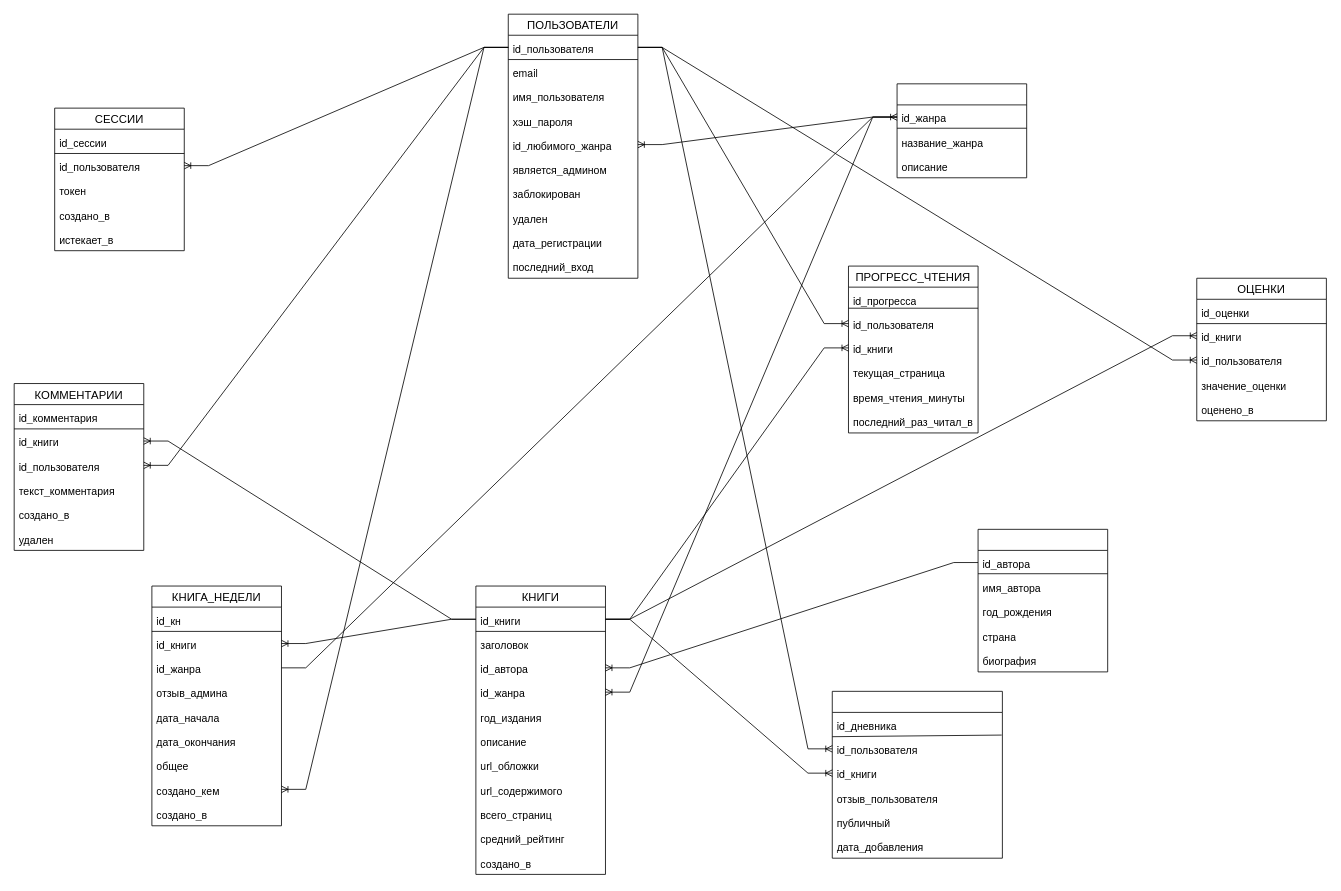
Some shapes in this 1341 by 891 pixel diagram are drawn without their labels. Each missing label, with the box of its shape:
АВТОРЫ: (977, 529, 1108, 672)
ЖАНРЫ: (896, 83, 1027, 178)
ЧИТАТЕЛЬСКИЙ_ДНЕВНИК: (831, 691, 1002, 858)
